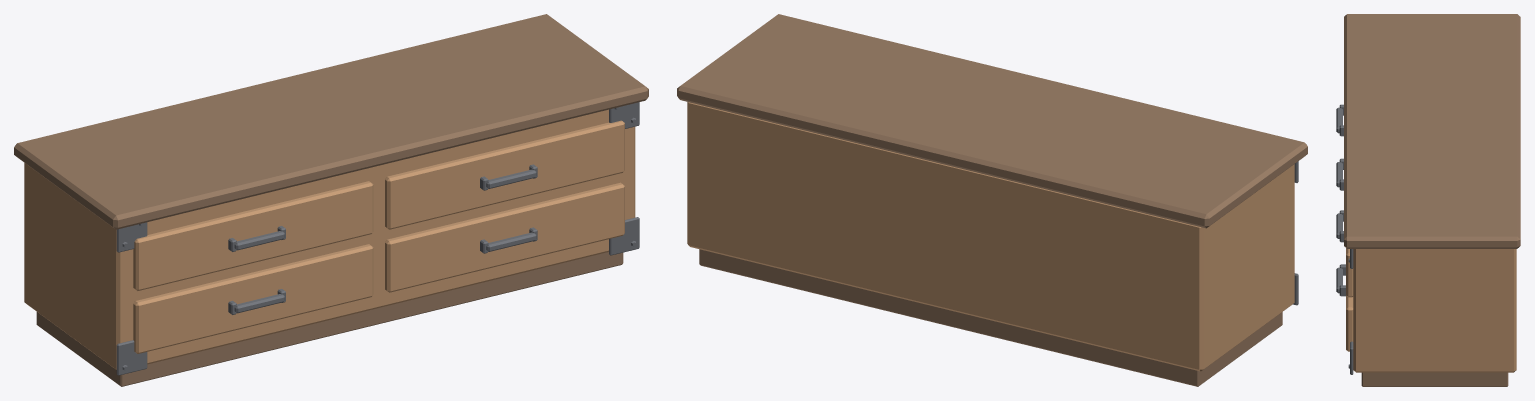
The model's file is Garage_Sideboard.glb.
3 views of the same model, side by side, from view 1: azimuth 30°, elevation 25°; view 2: azimuth 150°, elevation 25°; view 3: azimuth 270°, elevation 25° (orthographic). The views are drawn at different scales.
Parts seen in each view (by area): view 1: Garage_Sideboard; view 2: Garage_Sideboard; view 3: Garage_Sideboard.
Boxes of the visible parts, bbox=[...] form: Garage_Sideboard: bbox=[14, 14, 648, 386]; Garage_Sideboard: bbox=[677, 14, 1307, 386]; Garage_Sideboard: bbox=[1336, 14, 1520, 386].
Size of the model in its own units: 1.96 by 0.635 by 0.6775.
